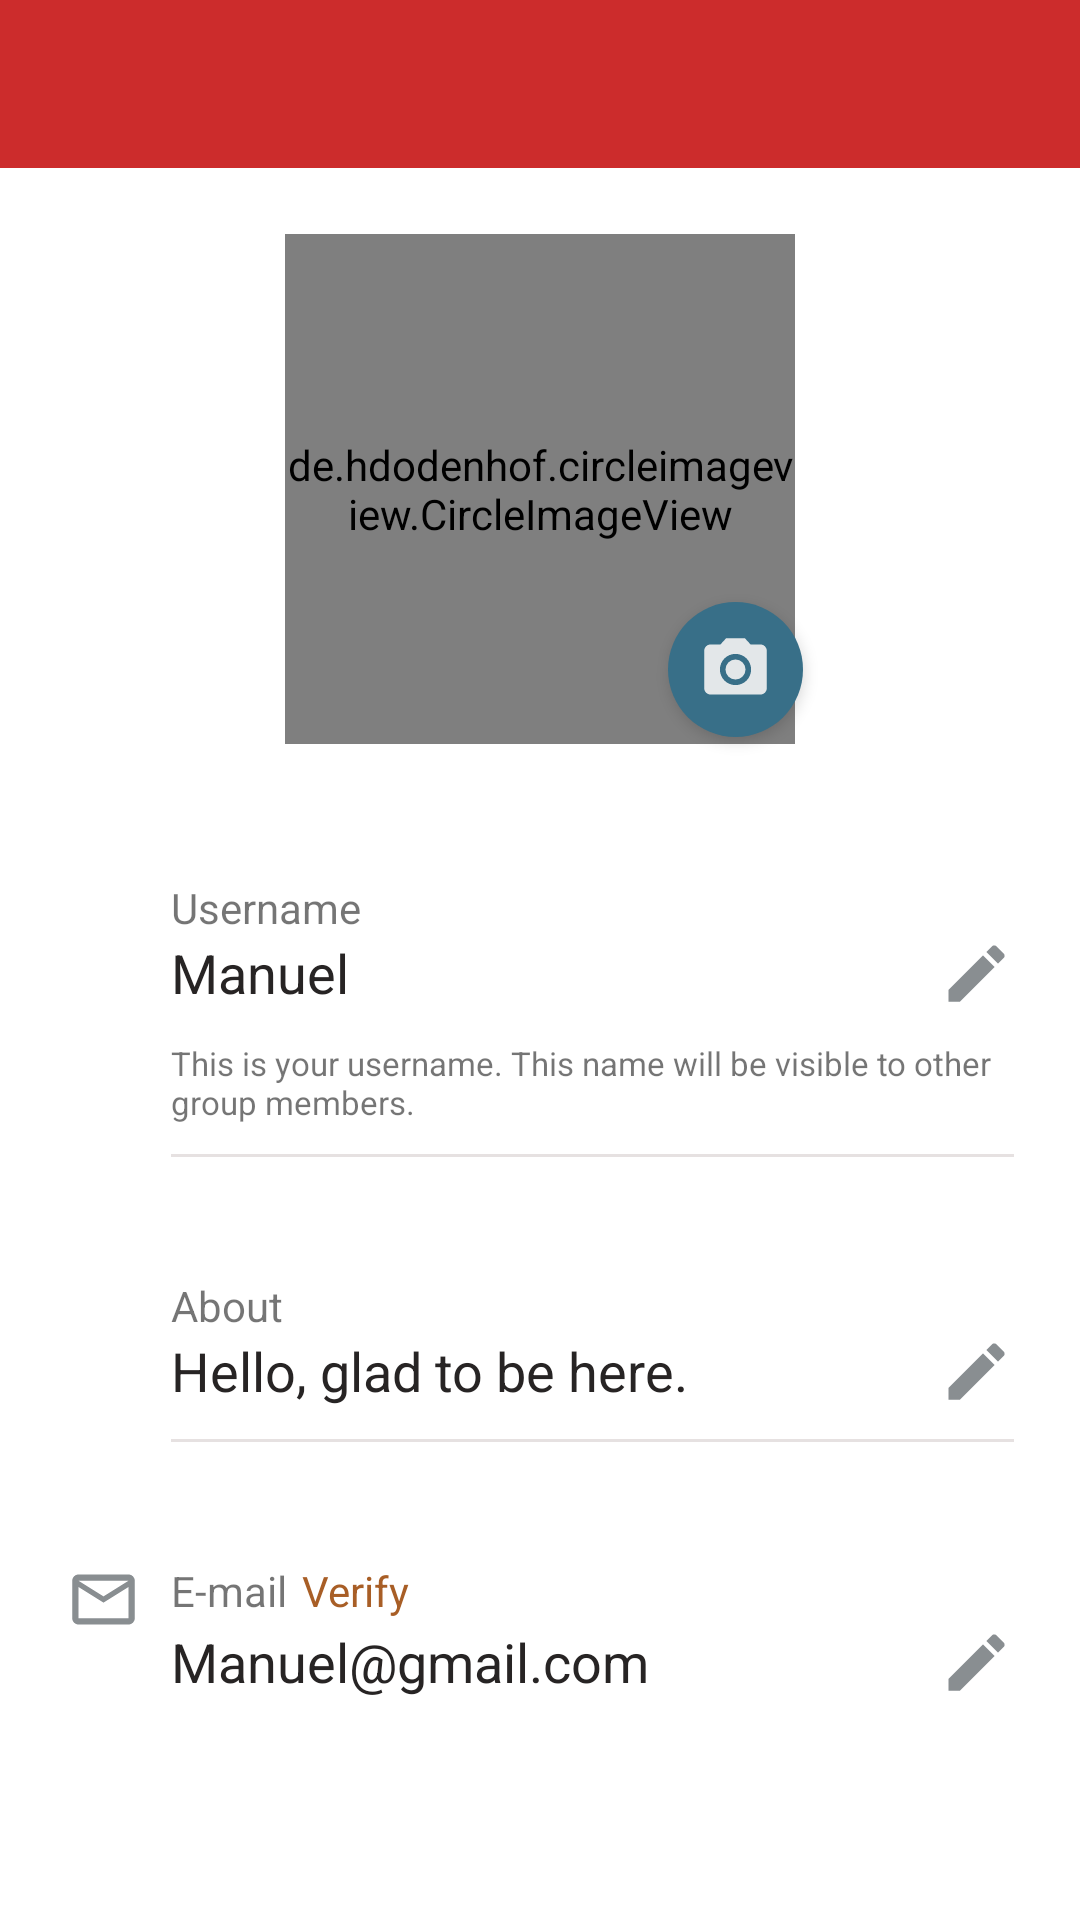

Named icons in this screenshot (1080*1920) and their bounding boxes, (x1, y1, x2, y2):
camera: (704, 638, 767, 695)
edit: (948, 945, 1005, 1002), (948, 1343, 1005, 1400), (948, 1634, 1005, 1691)
